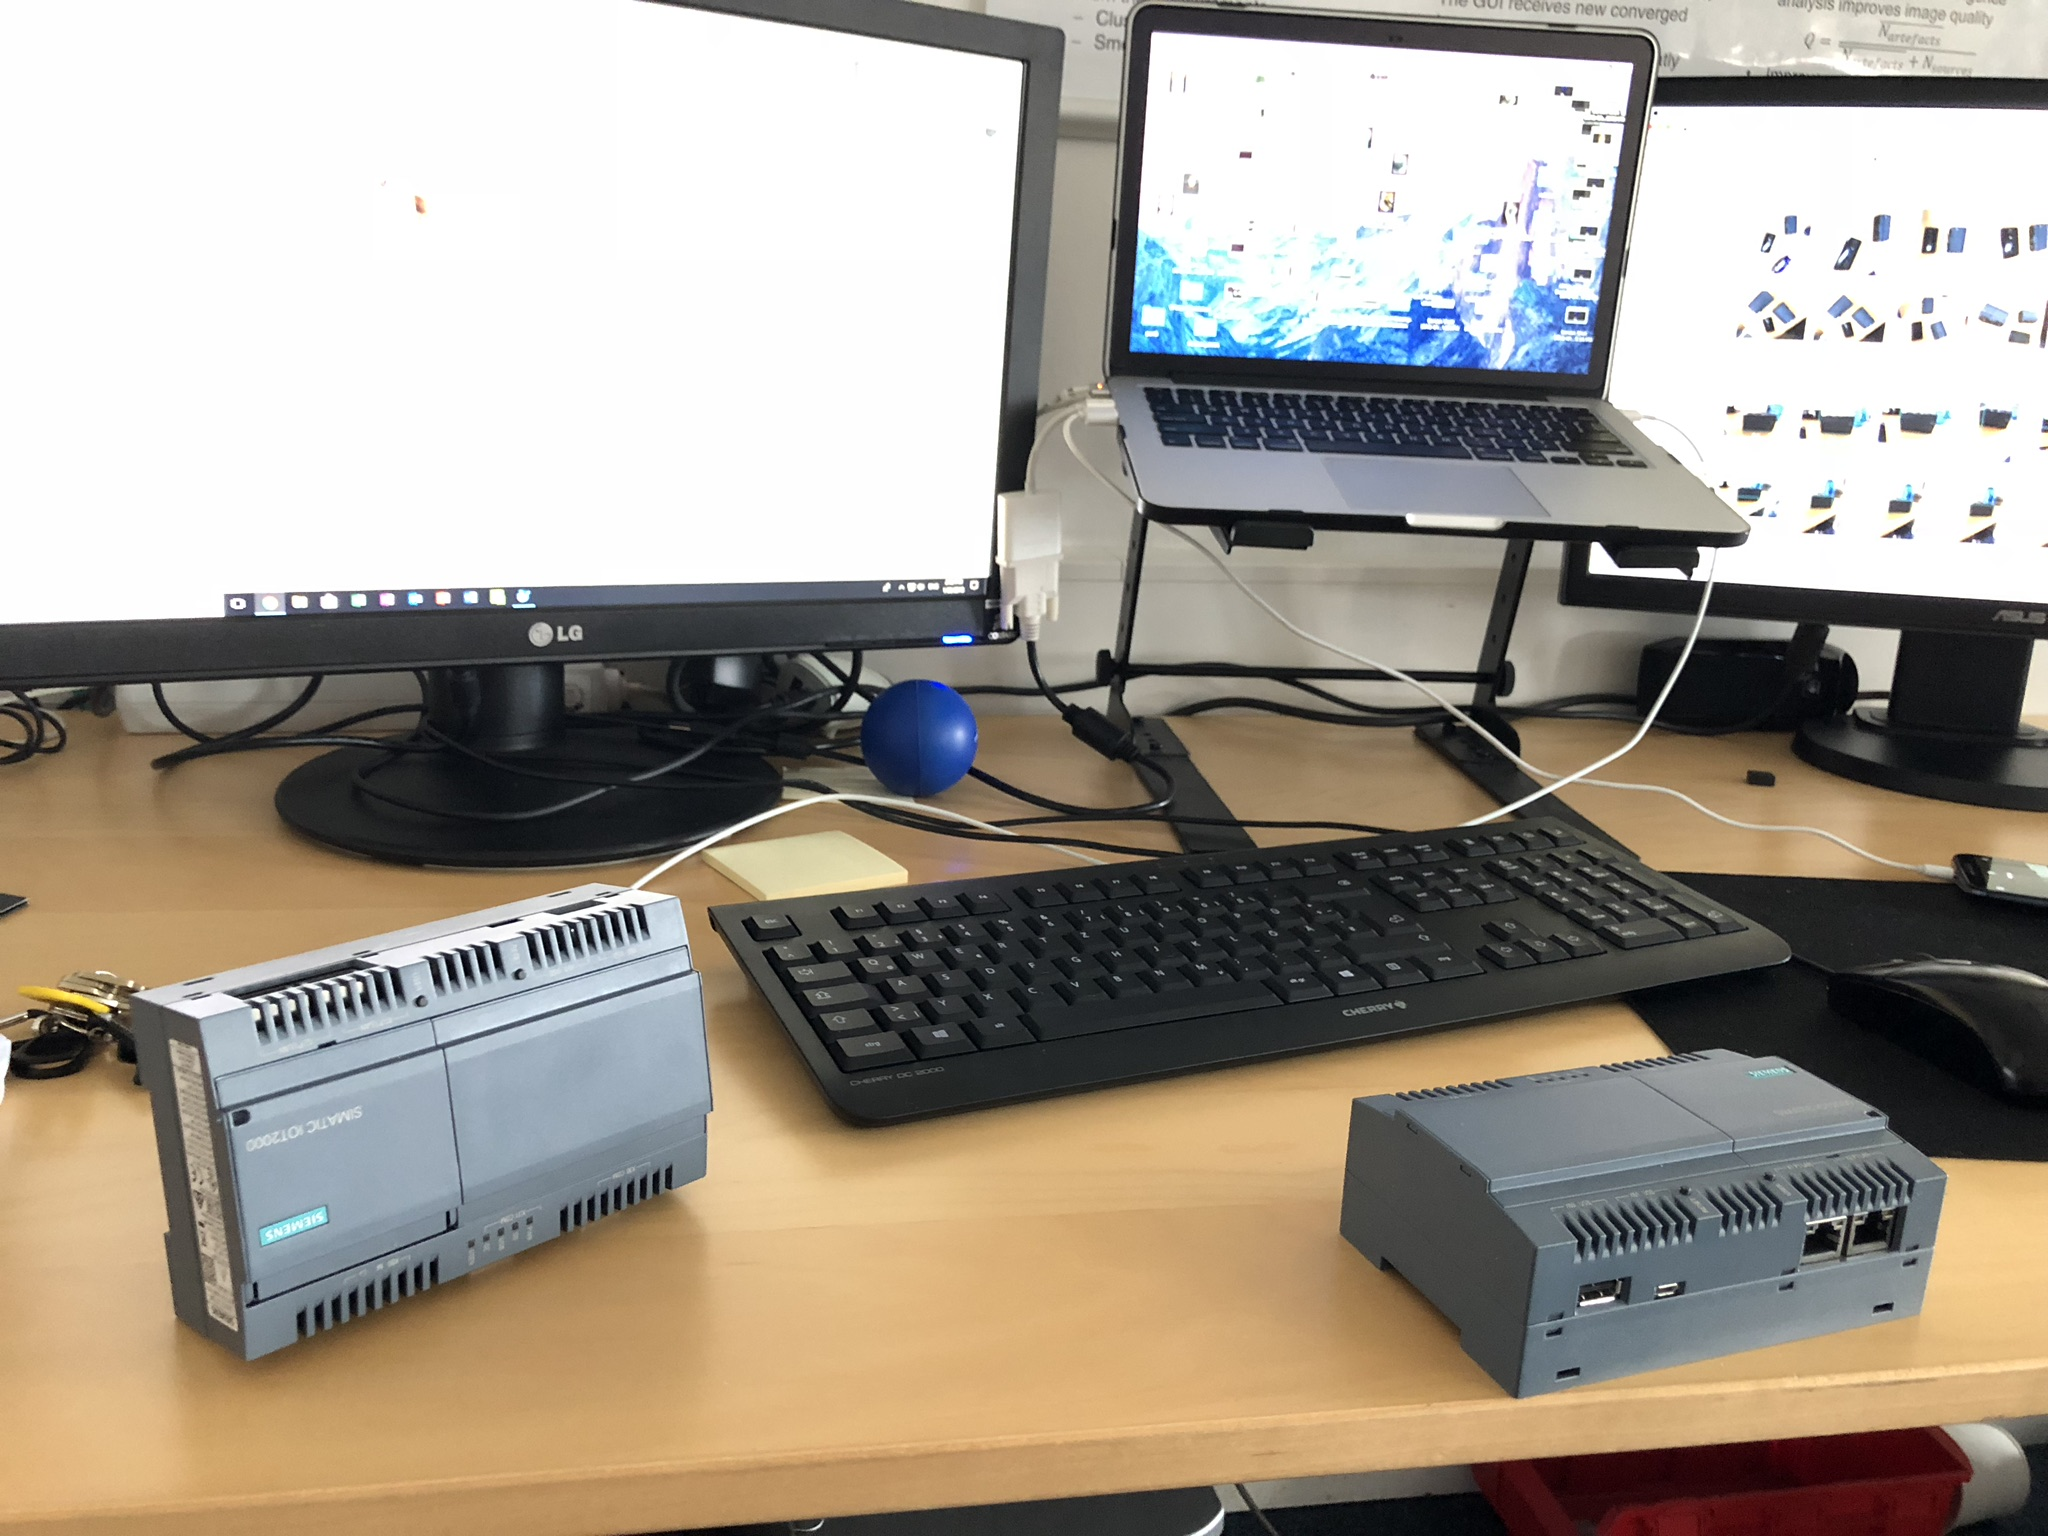device: (129, 883, 714, 1362), (1338, 1049, 1950, 1399)
